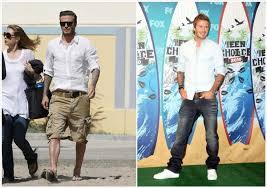F_shirt: (45, 34, 100, 91)
S_shirt: (176, 38, 224, 101)
